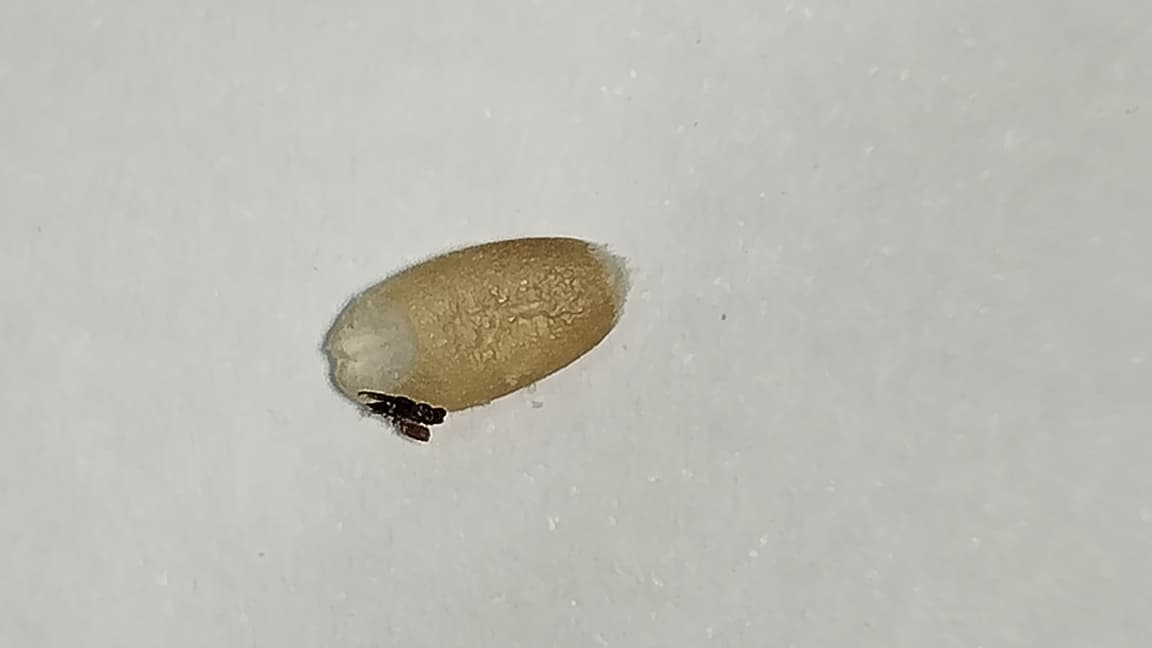damage: (325, 238, 619, 439)
insectdamage: (330, 371, 485, 449)
